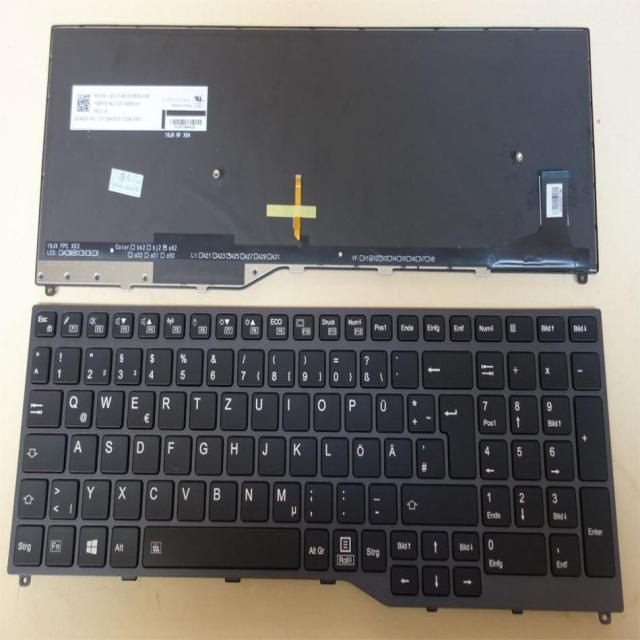0: (327, 346, 355, 386)
1: (51, 343, 79, 382)
2: (82, 344, 111, 383)
3: (112, 344, 141, 383)
4: (144, 345, 171, 383)
5: (173, 345, 201, 383)
6: (206, 347, 234, 386)
7: (235, 346, 263, 385)
8: (265, 346, 293, 385)
9: (296, 346, 324, 385)
a: (67, 430, 96, 471)
accent: (390, 347, 417, 386)
ae: (382, 435, 411, 476)
alt-left: (108, 523, 137, 567)
altgr-right: (303, 525, 328, 569)
b: (206, 477, 236, 520)
c: (143, 476, 172, 519)
caret: (29, 344, 49, 381)
comma: (302, 479, 331, 522)
d: (130, 431, 158, 472)
del: (421, 347, 471, 386)
e: (125, 387, 154, 428)
enter: (436, 390, 473, 477)
f: (162, 432, 189, 472)
g: (193, 432, 220, 473)
h: (224, 433, 252, 473)
hash: (414, 435, 443, 477)
i: (280, 389, 308, 429)
j: (256, 433, 284, 474)
k: (287, 433, 315, 475)
keyboard: (2, 289, 631, 627)
l: (319, 434, 346, 475)
less: (48, 475, 77, 518)
m: (270, 478, 299, 522)
minus: (367, 480, 396, 523)
n: (239, 478, 268, 520)
o: (313, 391, 341, 432)
oe: (350, 434, 379, 476)
p: (342, 390, 370, 430)
plus: (405, 390, 433, 431)
point: (334, 480, 364, 522)
q: (63, 386, 91, 426)
r: (156, 387, 184, 428)
s: (98, 431, 127, 471)
shift-left: (15, 474, 46, 517)
shift-lock: (21, 429, 64, 470)
shift-right: (399, 480, 476, 524)
space: (141, 523, 298, 568)
ss: (358, 347, 385, 386)
strg-left: (11, 521, 42, 564)
strg-right: (360, 526, 385, 571)
t: (187, 387, 214, 428)
tab: (25, 385, 60, 426)
u: (249, 389, 276, 429)
ue: (373, 390, 402, 431)
v: (175, 477, 204, 519)
w: (94, 386, 122, 427)
x: (111, 476, 140, 518)
y: (80, 476, 109, 518)
z: (218, 388, 246, 429)
